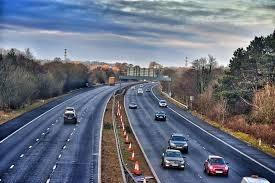road: (125, 83, 274, 182), (0, 81, 136, 180)
